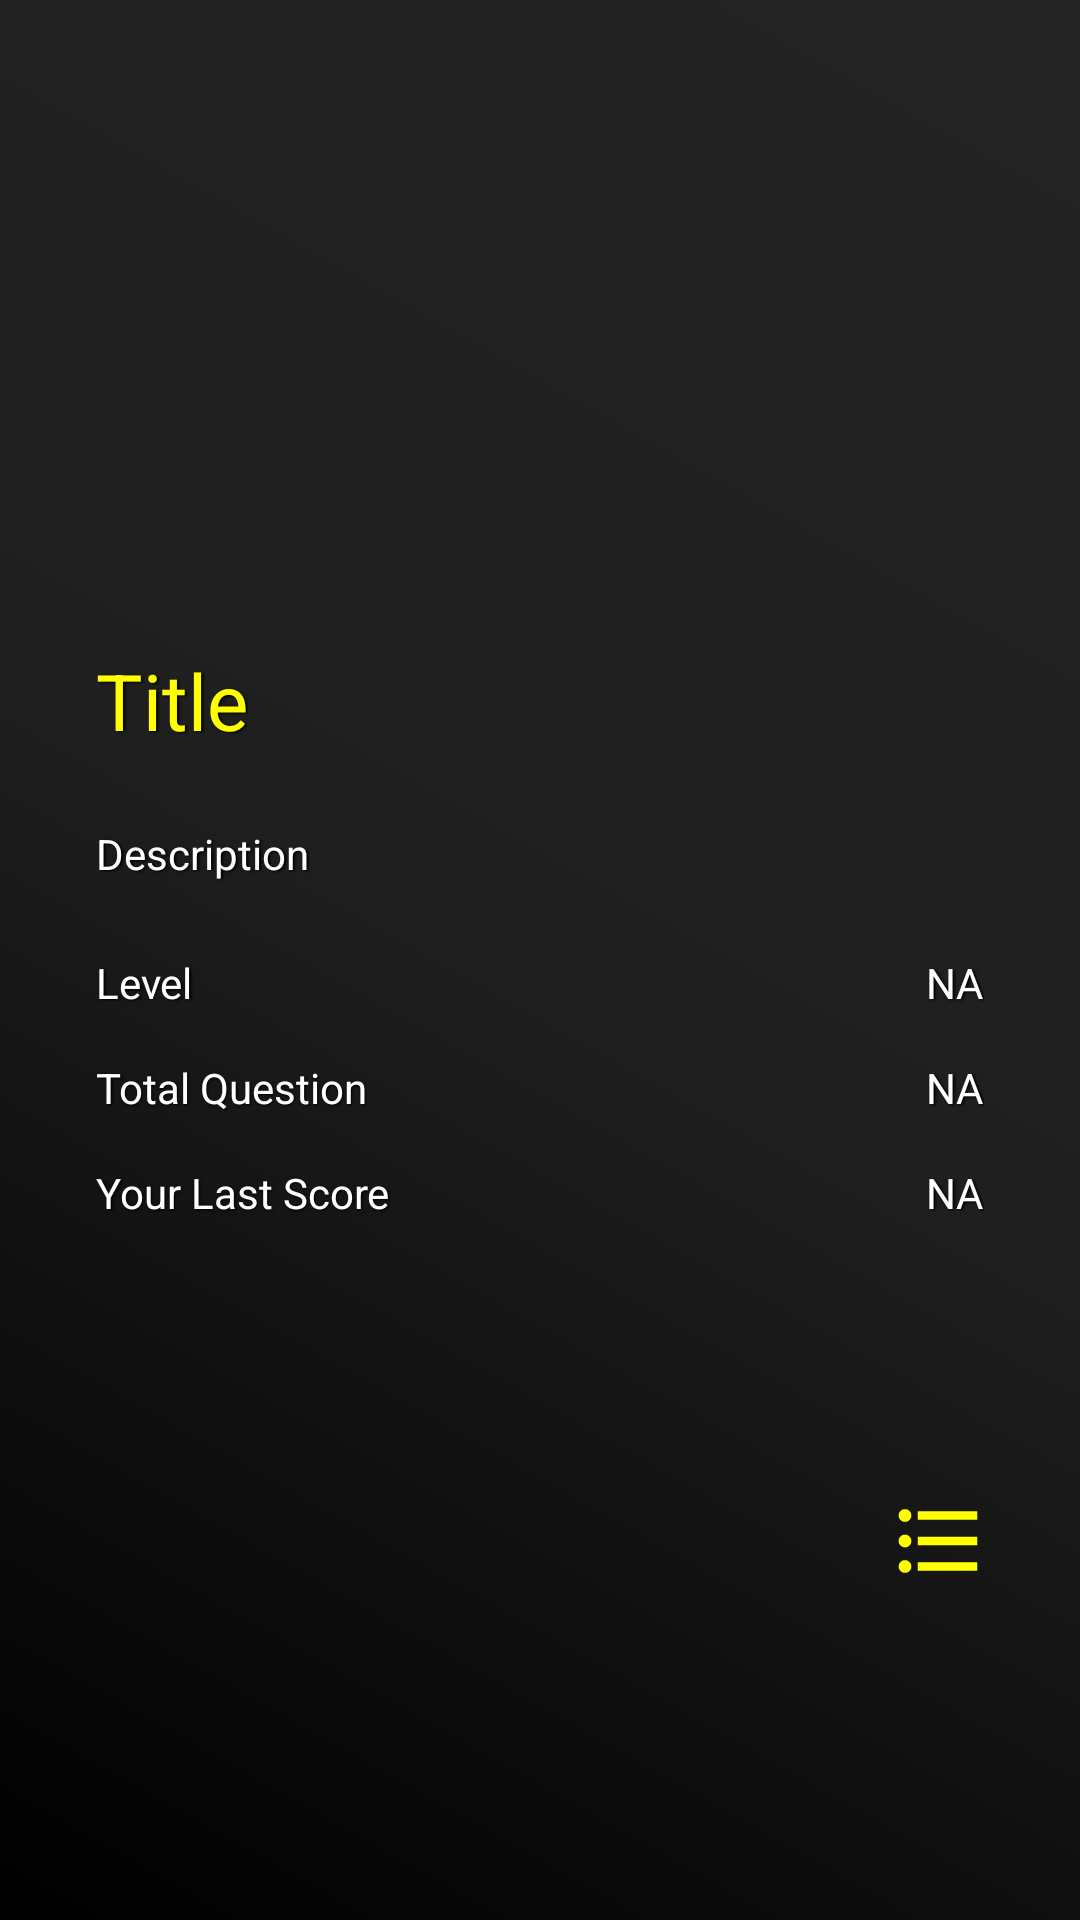

Where to tap for icons on this 1080*1920 app screen, as (x,y):
format list bulleted: (938,1541)
